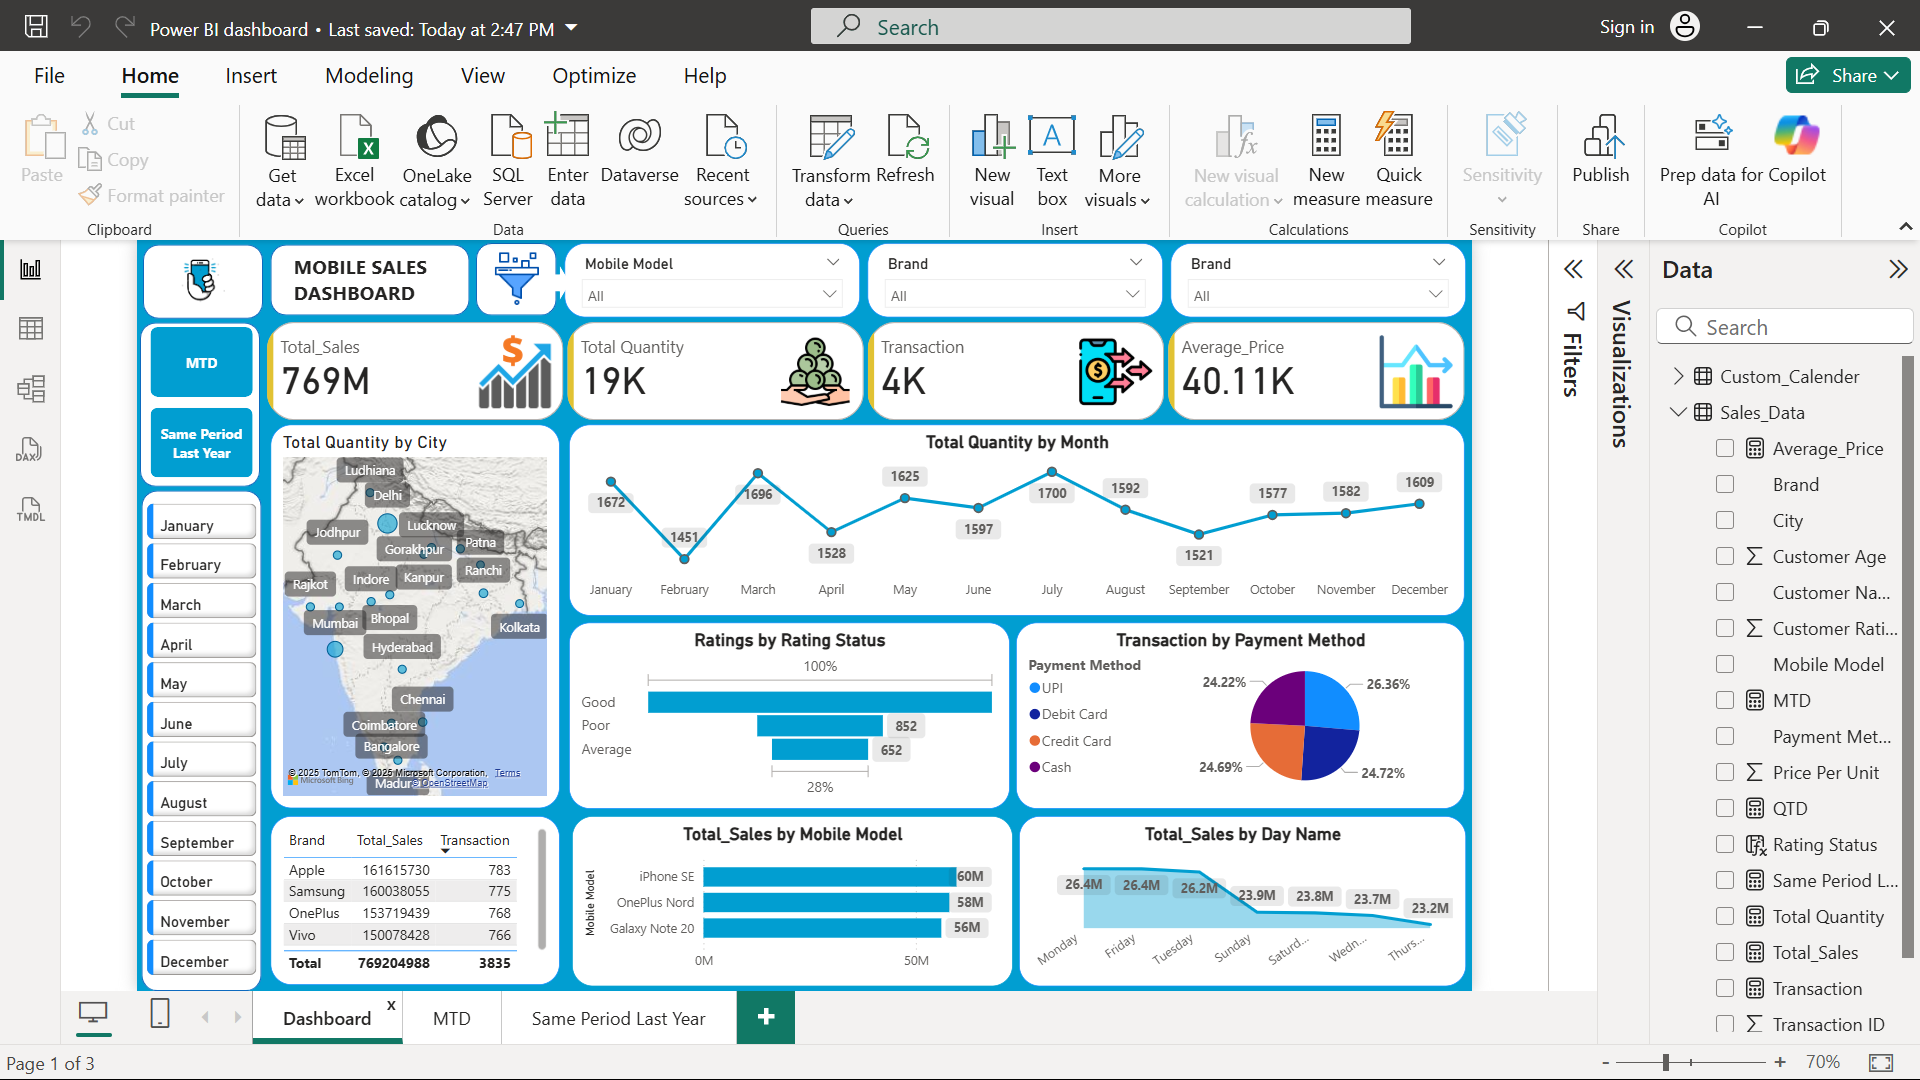

What the dashboard file says about the page in this screenshot:
{"tool":"powerbi","page":{"name":"Dashboard","canvas":[1280,720],"ordinal":0},"visuals":[{"type":"shape","box":[6.1,4.5,115.1,71.2],"z":0},{"type":"image","box":[1.5,7.6,118.1,65.1],"z":1000},{"type":"shape","box":[3,78.7,115.1,157.5],"z":2000},{"type":"shape","box":[4.5,240,115.1,480],"z":3000},{"type":"advancedSlicerVisual","fields":{"Values":["Custom_Calender.Date.Variation.Date Hierarchy.Month"]},"box":[4.5,246.8,115.1,472.4],"z":4000},{"type":"cardVisual","fields":{"Data":["Mobile_Sales_Data.Total_Sales","Mobile_Sales_Data.Total Quantity","Mobile_Sales_Data.Transaction","Mobile_Sales_Data.Average_Price"]},"box":[119.6,72.7,1159.9,104.5],"z":5000},{"type":"slicer","fields":{"Values":["Mobile_Sales_Data.Mobile Model"]},"box":[410.3,3,283.2,71.2],"z":6000},{"type":"slicer","fields":{"Values":["Mobile_Sales_Data.Brand"]},"box":[701.1,3,283.2,71.2],"z":7000},{"type":"slicer","fields":{"Values":["Mobile_Sales_Data.Brand"]},"box":[990.3,3,283.2,71.2],"z":8000},{"type":"shape","box":[325.6,3,77.2,69.7],"z":9000},{"type":"image","box":[324,6.1,81.8,62.1],"z":10000},{"type":"shape","box":[395.2,24.2,19.7,33.3],"z":11000},{"type":"shape","box":[128.7,4.5,190.8,68.1],"z":12000},{"type":"textbox","box":[145.4,7.6,157.5,60.6],"z":13000},{"type":"map","fields":{"Category":["Mobile_Sales_Data.City"],"Size":["Mobile_Sales_Data.Total Quantity"]},"box":[128.7,177.2,277.1,368],"z":14000},{"type":"lineChart","fields":{"Category":["Custom_Calender.Date.Variation.Date Hierarchy.Month"],"Y":["Mobile_Sales_Data.Total Quantity"]},"box":[414.9,177.2,858.6,183.2],"z":15000},{"type":"funnel","title":" Ratings by Rating Status","fields":{"Category":["Mobile_Sales_Data.Rating Status"],"Y":["CountNonNull(Mobile_Sales_Data.Customer Ratings)"]},"box":[414.9,366.4,422.5,178.7],"z":16000},{"type":"pieChart","fields":{"Category":["Mobile_Sales_Data.Payment Method"],"Y":["Mobile_Sales_Data.Transaction"]},"box":[843.4,366.4,430,178.7],"z":17000},{"type":"clusteredBarChart","fields":{"Y":["Mobile_Sales_Data.Total_Sales"],"Category":["Mobile_Sales_Data.Mobile Model"]},"box":[416.4,552.7,422.5,163.5],"z":18000},{"type":"areaChart","fields":{"Y":["Mobile_Sales_Data.Total_Sales"],"Category":["Custom_Calender.Day Name"]},"box":[844.9,552.7,428.5,163.5],"z":19000},{"type":"tableEx","fields":{"Values":["Mobile_Sales_Data.Brand","Mobile_Sales_Data.Total_Sales","Mobile_Sales_Data.Transaction"]},"box":[128.7,552.7,277.1,162],"z":20000},{"type":"pageNavigator","box":[13.3,83.3,98.3,145],"z":21000}]}

Visuals, with their boxes on the page's 1280x720 design canvas (x1, y1, x2, y2). These are canvas units, not pixel positions in the 1920x1080 screenshot, which may show the page scaled, cropped or inside an application window:
shape: BBox(6, 4, 121, 76)
image: BBox(2, 8, 120, 73)
shape: BBox(3, 79, 118, 236)
shape: BBox(4, 240, 120, 720)
advancedSlicerVisual - Custom_Calender.Date.Variation.Date Hierarchy.Month: BBox(4, 247, 120, 719)
cardVisual - Mobile_Sales_Data.Total_Sales x Mobile_Sales_Data.Total Quantity: BBox(120, 73, 1280, 177)
slicer - Mobile_Sales_Data.Mobile Model: BBox(410, 3, 694, 74)
slicer - Mobile_Sales_Data.Brand: BBox(701, 3, 984, 74)
slicer - Mobile_Sales_Data.Brand: BBox(990, 3, 1274, 74)
shape: BBox(326, 3, 403, 73)
image: BBox(324, 6, 406, 68)
shape: BBox(395, 24, 415, 58)
shape: BBox(129, 4, 320, 73)
textbox: BBox(145, 8, 303, 68)
map - Mobile_Sales_Data.City x Mobile_Sales_Data.Total Quantity: BBox(129, 177, 406, 545)
lineChart - Custom_Calender.Date.Variation.Date Hierarchy.Month x Mobile_Sales_Data.Total Quantity: BBox(415, 177, 1274, 360)
" Ratings by Rating Status" funnel: BBox(415, 366, 837, 545)
pieChart - Mobile_Sales_Data.Payment Method x Mobile_Sales_Data.Transaction: BBox(843, 366, 1273, 545)
clusteredBarChart - Mobile_Sales_Data.Total_Sales x Mobile_Sales_Data.Mobile Model: BBox(416, 553, 839, 716)
areaChart - Mobile_Sales_Data.Total_Sales x Custom_Calender.Day Name: BBox(845, 553, 1273, 716)
tableEx - Mobile_Sales_Data.Brand x Mobile_Sales_Data.Total_Sales: BBox(129, 553, 406, 715)
pageNavigator: BBox(13, 83, 112, 228)
